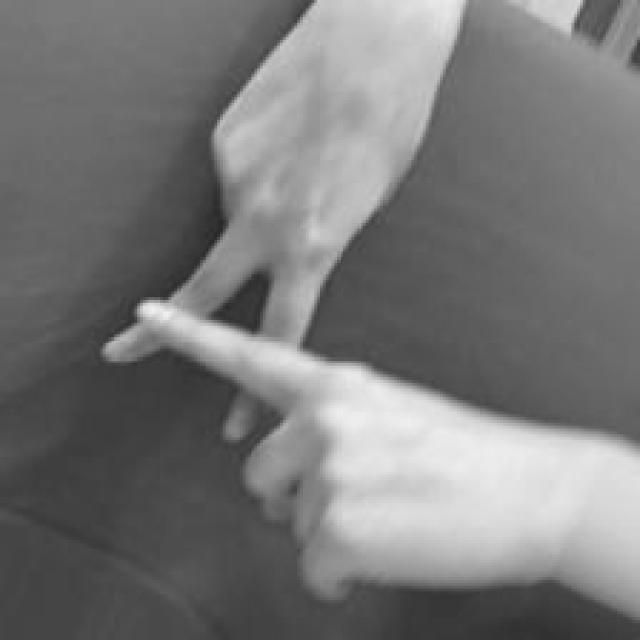A: (99, 95, 501, 640)
